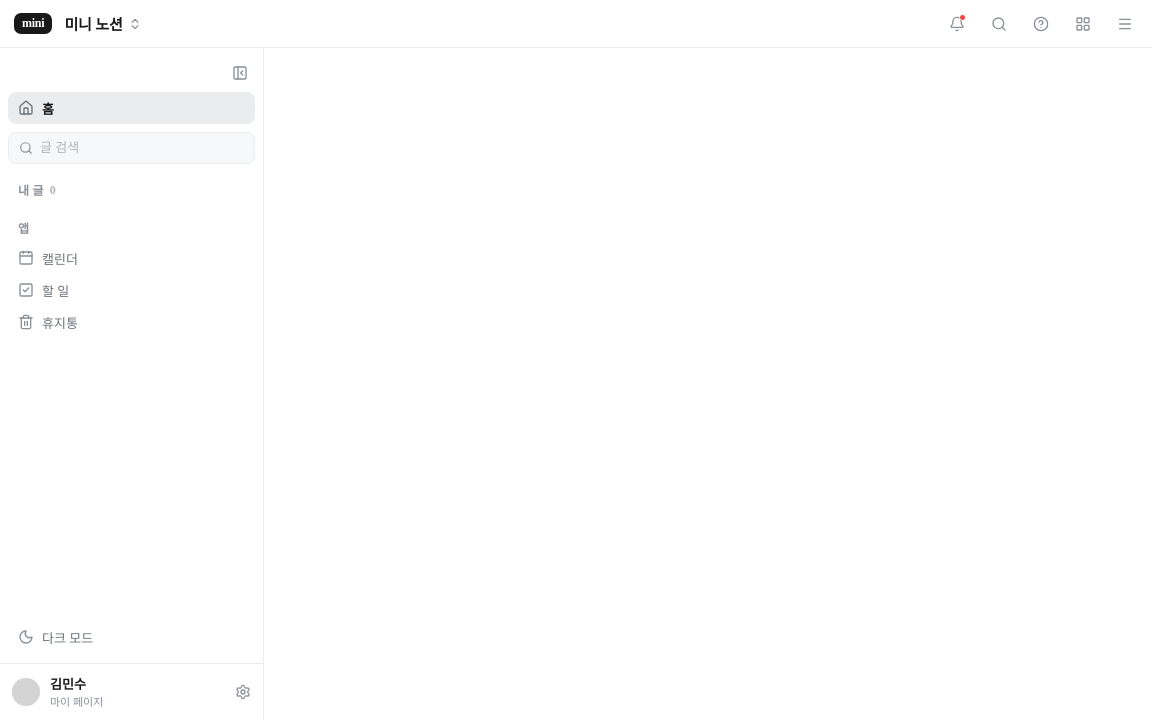
Test case: clicking the toggle switches the app to dark and relabels to 라이트 모드 with a sun icon
This screenshot has width=1152, height=720.
Click the button "다크 모드" at (132, 637), box [8, 621, 255, 653]
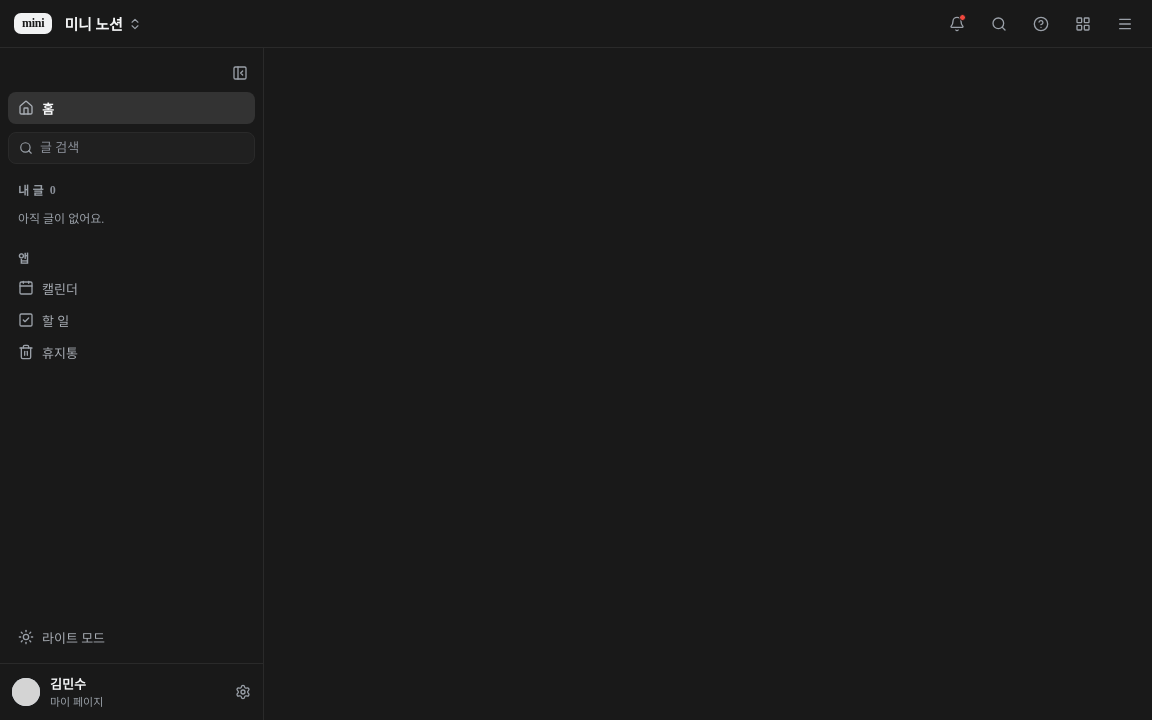
Expected: the icon with class "lucide-sun" is shown, [18, 629, 34, 645]
Expected: the icon with class "lucide-moon" is gone
